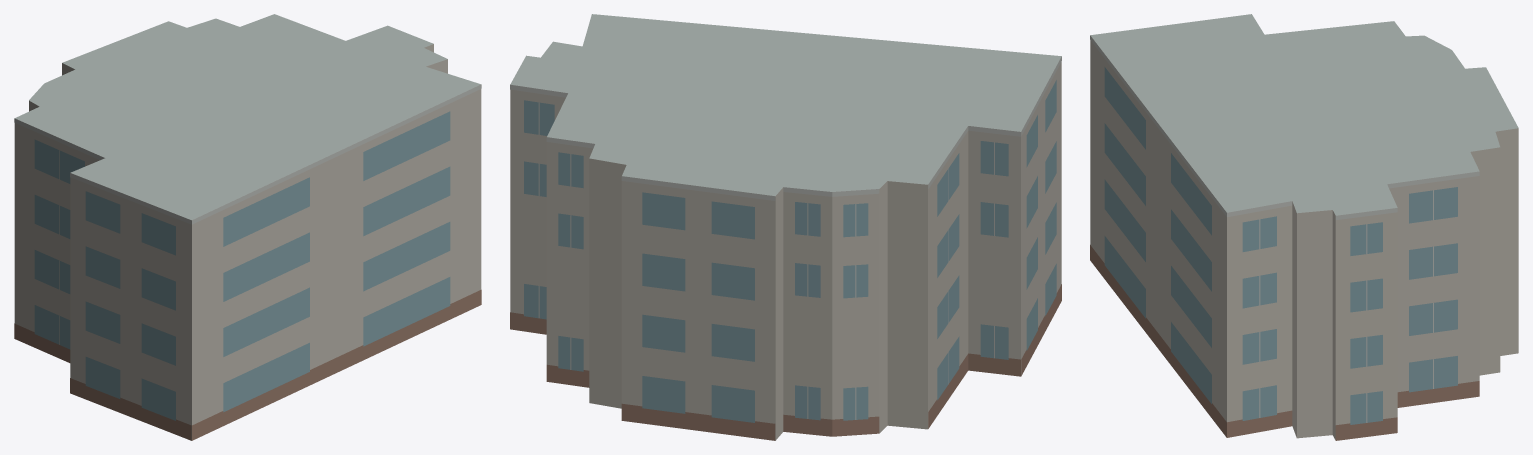
The model's file is survey-upis-32782914.glb.
3 renders of one model, left to right at view 1: azimuth 30°, elevation 25°; view 2: azimuth 150°, elevation 25°; view 3: azimuth 270°, elevation 25°, orthographic. The views are drawn at different scales.
Visible parts, largest first — view 1: survey-upis-32782914.tmp; view 2: survey-upis-32782914.tmp; view 3: survey-upis-32782914.tmp.
Boxes of the visible parts, <box> form: survey-upis-32782914.tmp: <box>14,14,481,440</box>; survey-upis-32782914.tmp: <box>510,14,1061,440</box>; survey-upis-32782914.tmp: <box>1090,14,1518,440</box>.
Bounding box in the file's own units: 23.65 × 12.3 × 21.23.
